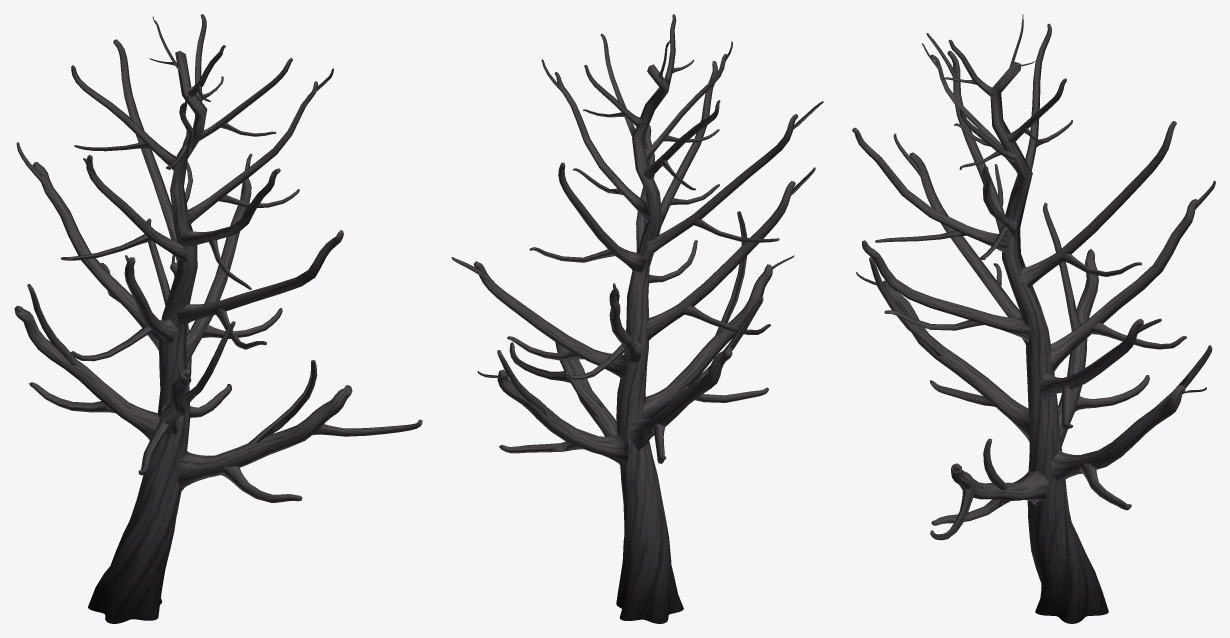
The model's file is DeadTree_2.gltf.
The picture shows the model from 3 angles, left to right: view 1: azimuth 30°, elevation 25°; view 2: azimuth 150°, elevation 25°; view 3: azimuth 270°, elevation 25°; orthographic projection. The views are drawn at different scales.
Visible parts, largest first — view 1: DeadTree_2; view 2: DeadTree_2; view 3: DeadTree_2.
Boxes of the visible parts, x1=… form: DeadTree_2: x1=14, y1=14, x2=422, y2=623; DeadTree_2: x1=451, y1=14, x2=823, y2=623; DeadTree_2: x1=852, y1=14, x2=1215, y2=623.
Size of the model in its own units: 6.73 by 11.49 by 6.38.
Materials: 1 (1 with a texture image).
